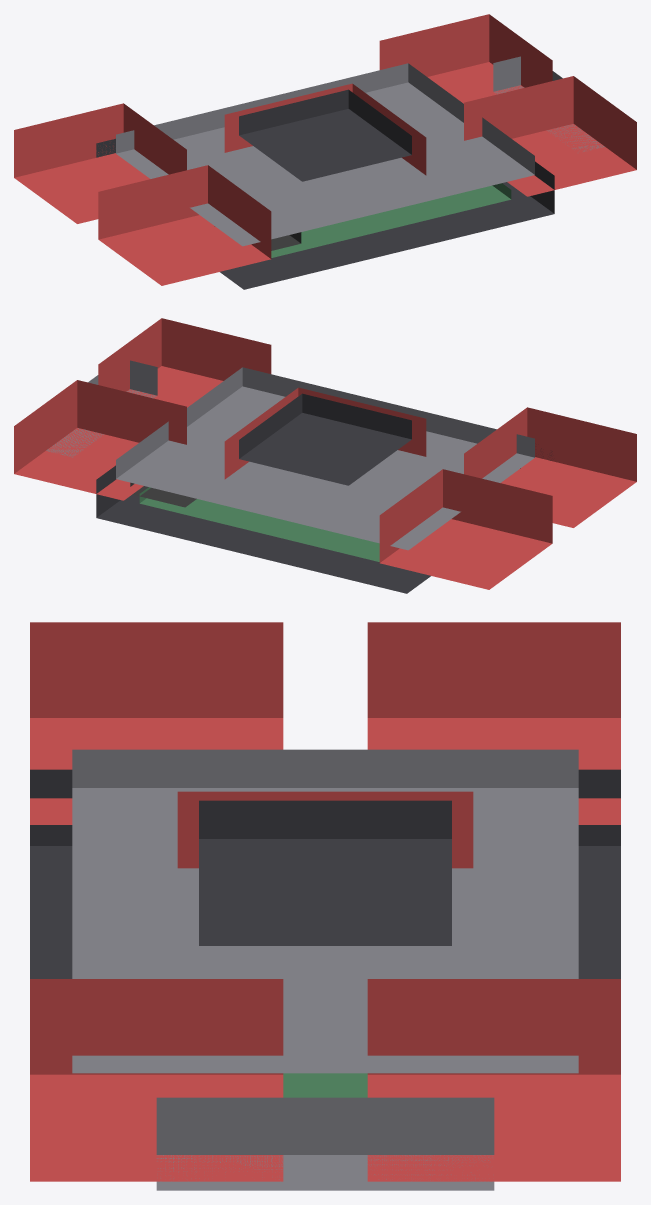
File: buttons.gltf
The picture shows the model from 3 angles, top to bottom: view 1: azimuth 30°, elevation 25°; view 2: azimuth 150°, elevation 25°; view 3: azimuth 270°, elevation 25°; orthographic projection. The views are drawn at different scales.
Visible parts, largest first — view 1: buttons; view 2: buttons; view 3: buttons.
Boxes of the visible parts, x1,y1,x2,y2 form: buttons: (14,14,636,289); buttons: (14,318,636,593); buttons: (30,622,620,1190).
Bounding box in the file's own units: 0.053 × 0.0075 × 0.028.
